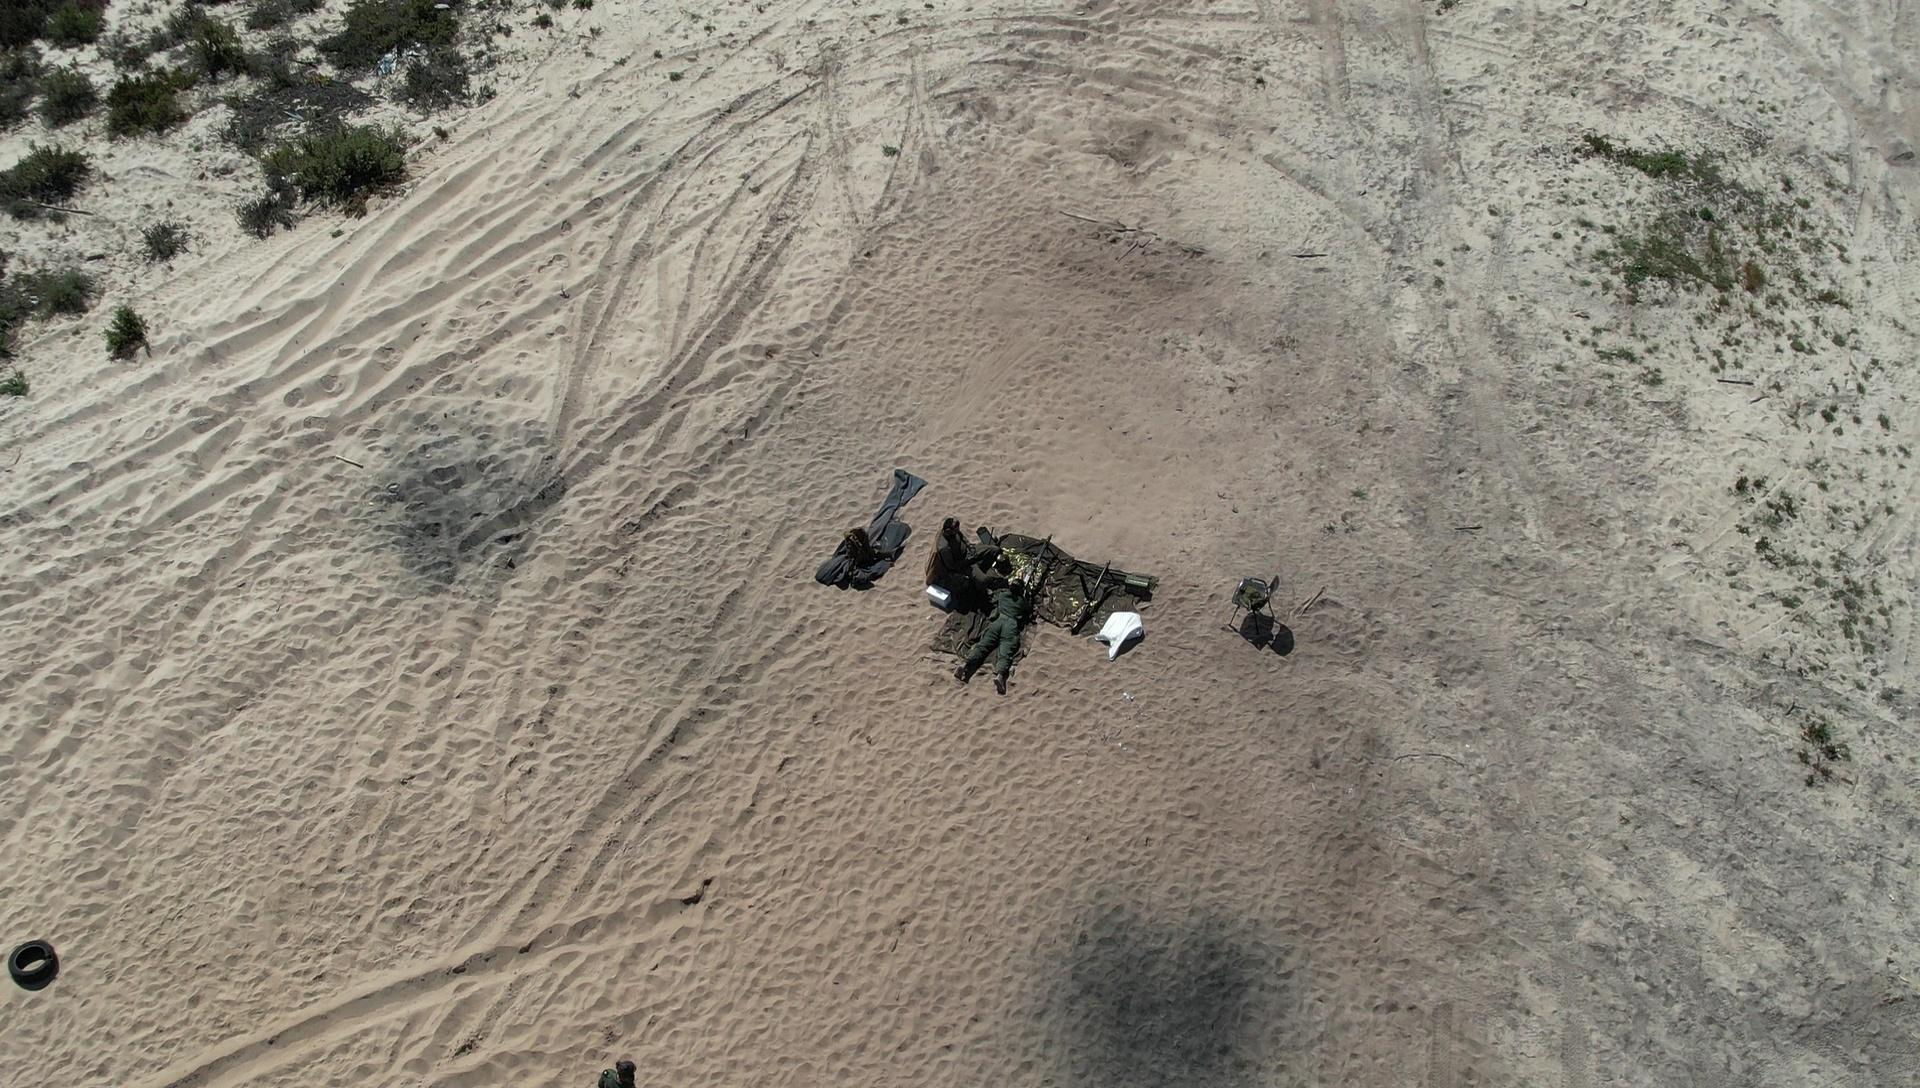Soldier: (967, 568, 1040, 695), (926, 499, 986, 580)
